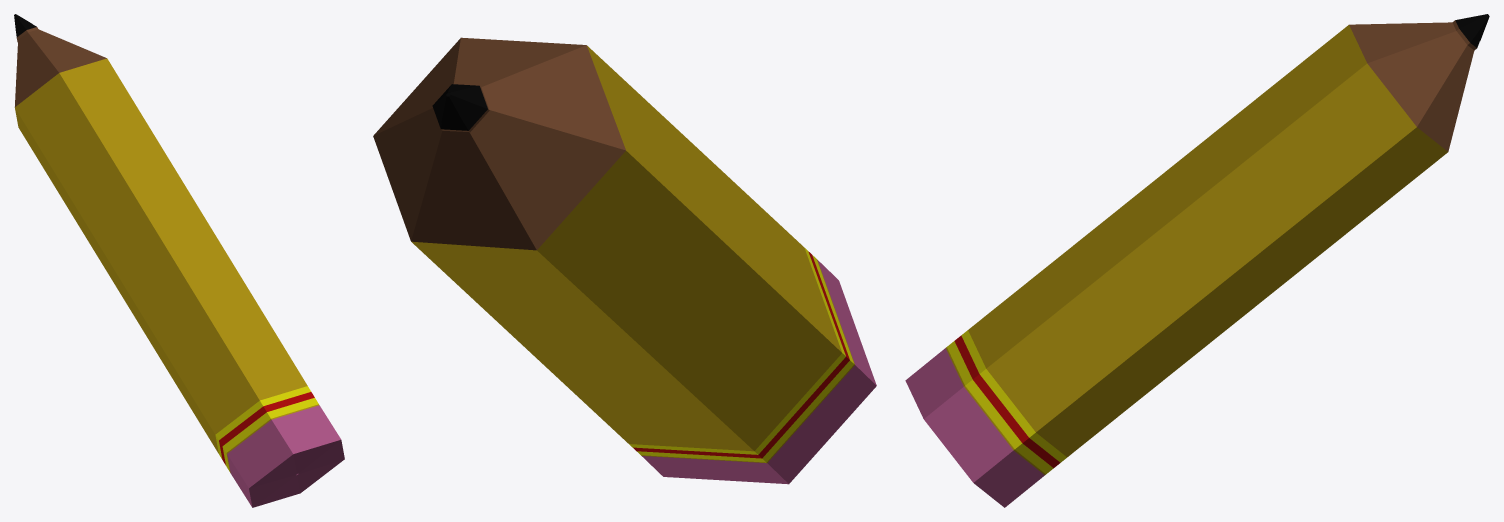
The model's file is lapizNuevo.obj.
The picture shows the model from 3 angles, left to right: view 1: azimuth 30°, elevation 25°; view 2: azimuth 150°, elevation 25°; view 3: azimuth 270°, elevation 25°; orthographic projection. The views are drawn at different scales.
Visible parts, largest first — view 1: Círculo; view 2: Círculo; view 3: Círculo.
Part boxes in pixels (x1,y1,x2,y2): Círculo: [14, 14, 344, 507]; Círculo: [373, 37, 876, 484]; Círculo: [905, 14, 1489, 507].
Size of the model in its own units: 2.77 by 5.72 by 6.88.
